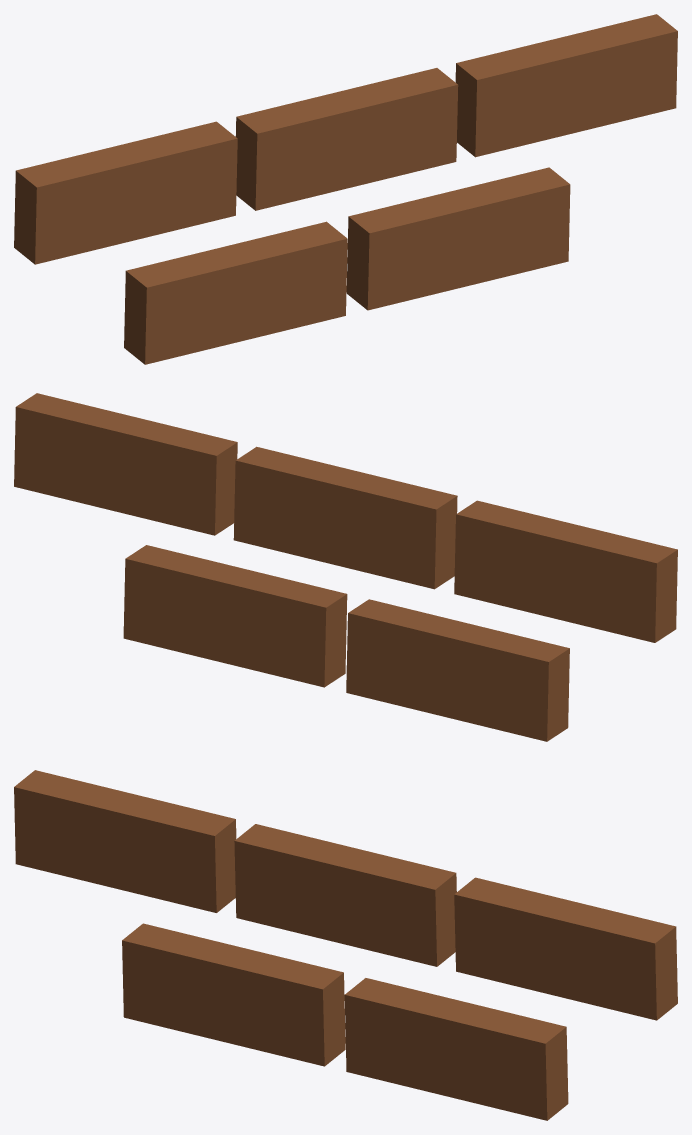
Rendered from brick_group_03.fbx.
3 renders of one model, top to bottom at view 1: azimuth 30°, elevation 25°; view 2: azimuth 150°, elevation 25°; view 3: azimuth 330°, elevation 25°, orthographic.
Parts seen in each view (by area): view 1: brick_group_03; view 2: brick_group_03; view 3: brick_group_03.
Part boxes in pixels (<box>): brick_group_03: <box>14,14,677,364</box>; brick_group_03: <box>14,393,677,741</box>; brick_group_03: <box>14,770,677,1120</box>.
Size of the model in its own units: 93.95 by 28.86 by 6.06.
1 material, 1 textured.
